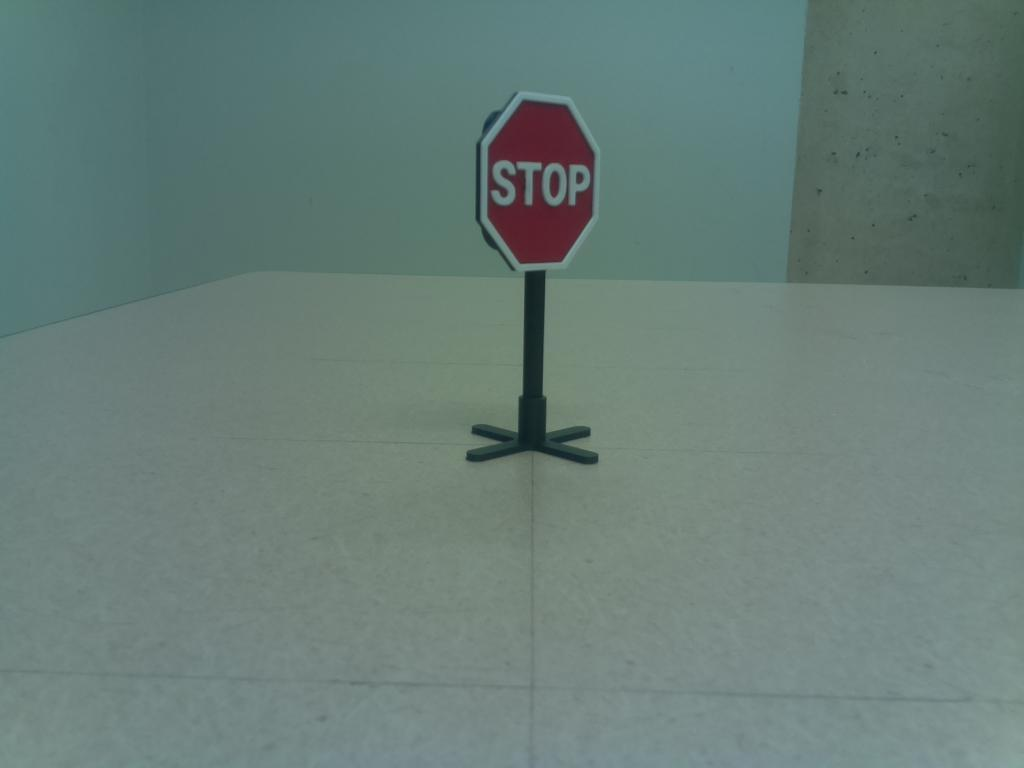sign_stop: (465, 90, 614, 274)
